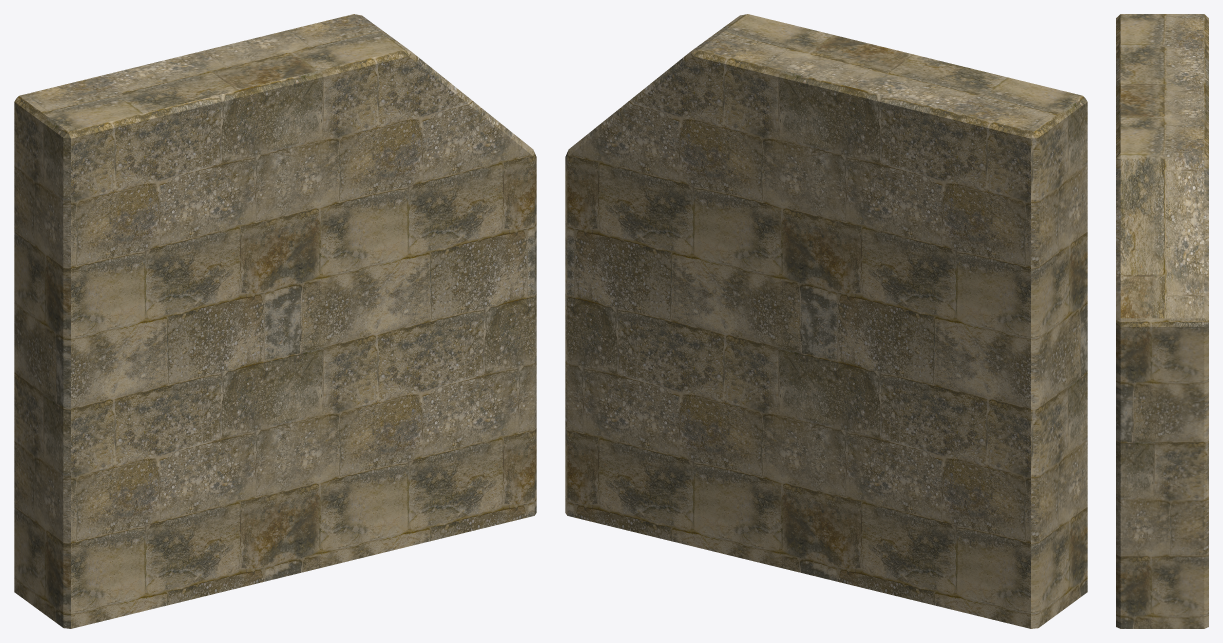
Rendered from wall2.fbx.
3 views of the same model, side by side, from view 1: azimuth 30°, elevation 25°; view 2: azimuth 150°, elevation 25°; view 3: azimuth 270°, elevation 25° (orthographic). The views are drawn at different scales.
Visible parts, largest first — view 1: Wall2; view 2: Wall2; view 3: Wall2.
Part boxes in pixels (x1,y1,x2,y2): Wall2: [14, 14, 536, 628]; Wall2: [565, 14, 1087, 628]; Wall2: [1116, 14, 1208, 628].
Bounding box in the file's own units: 500 × 500 × 100.
